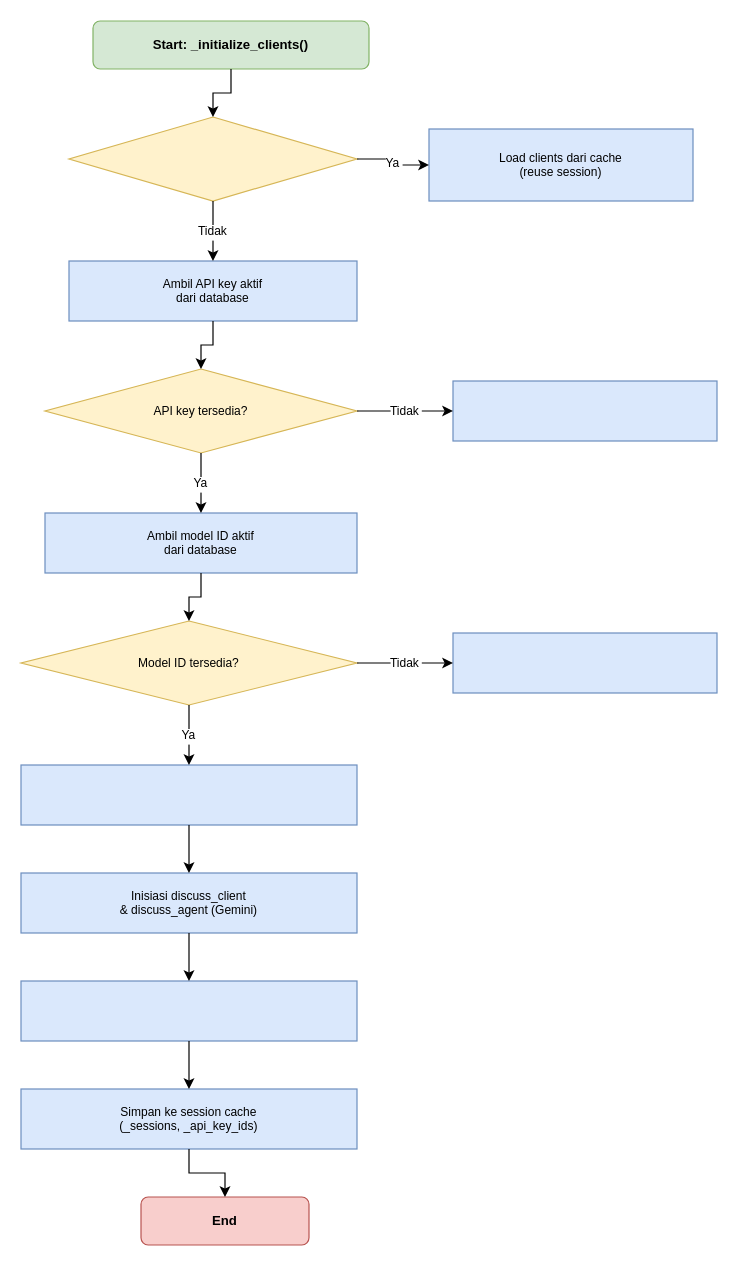
The diagram is 738 pixels wide and 1266 high, and some of its shapes have lost their labels. Here are the shapes that lost their labels. From the top down, the box of each, then its label:
(68, 116, 357, 201): session_id ada di cache?
(452, 380, 717, 441): Raise ValueError: 'API Key not found'
(452, 632, 717, 693): Raise ValueError: 'AI Model not found'
(20, 764, 357, 825): Load discuss_prompt & search_prompt dari file
(20, 980, 357, 1041): Inisiasi search_client & search_agent (Gemini)
